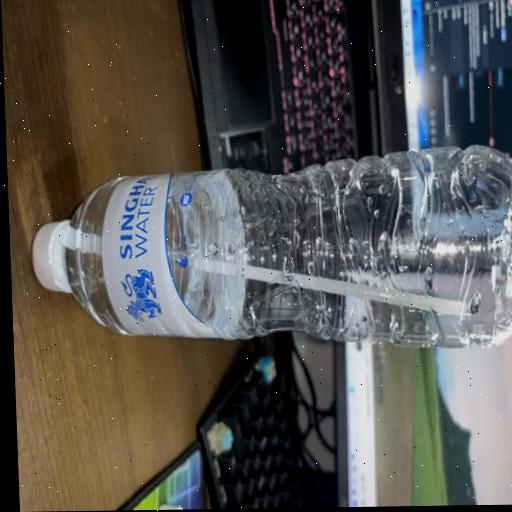bottle: (21, 135, 512, 368)
